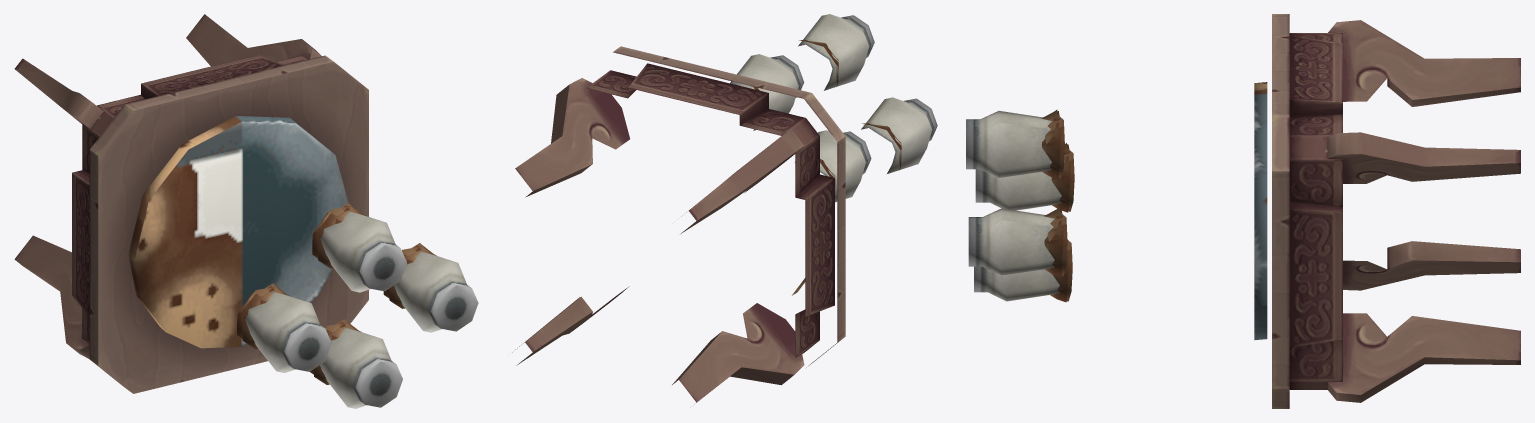
3 renders of one model, left to right at view 1: azimuth 30°, elevation 25°; view 2: azimuth 150°, elevation 25°; view 3: azimuth 270°, elevation 25°, orthographic. The views are drawn at different scales.
Visible parts, largest first — view 1: winterfest_table.model-MeshNodes["winterfest_table"], parts.model-MeshNodes["milk_cookies_tray_bake"], winterfest.milk_cookies_set-MeshSets[milk_cookies_milk].Mesh (×4), winterfest.milk_cookies_set-MeshSets[model_cookie02].Mesh[0] (×2); view 2: winterfest_table.model-MeshNodes["winterfest_table"], winterfest.milk_cookies_set-MeshSets[milk_cookies_milk].Mesh (×4); view 3: winterfest_table.model-MeshNodes["winterfest_table"], winterfest.milk_cookies_set-MeshSets[milk_cookies_milk].Mesh (×4), parts.model-MeshNodes["milk_cookies_tray_bake"], winterfest.milk_cookies_set-MeshSets[model_cookie02].Mesh[0] (×2).
Boxes of the visible parts, left/top/right/bottom form: winterfest_table.model-MeshNodes["winterfest_table"]: left=14, top=14, right=368, bottom=393; parts.model-MeshNodes["milk_cookies_tray_bake"]: left=128, top=116, right=348, bottom=348; winterfest.milk_cookies_set-MeshSets[milk_cookies_milk].Mesh (×4): left=245, top=211, right=478, bottom=408; winterfest.milk_cookies_set-MeshSets[model_cookie02].Mesh[0] (×2): left=241, top=203, right=358, bottom=349; winterfest_table.model-MeshNodes["winterfest_table"]: left=512, top=46, right=845, bottom=402; winterfest.milk_cookies_set-MeshSets[milk_cookies_milk].Mesh (×4): left=730, top=14, right=937, bottom=202; winterfest_table.model-MeshNodes["winterfest_table"]: left=1272, top=14, right=1520, bottom=408; winterfest.milk_cookies_set-MeshSets[milk_cookies_milk].Mesh (×4): left=966, top=111, right=1061, bottom=301; parts.model-MeshNodes["milk_cookies_tray_bake"]: left=1254, top=82, right=1267, bottom=340; winterfest.milk_cookies_set-MeshSets[model_cookie02].Mesh[0] (×2): left=1041, top=112, right=1067, bottom=276.
Size of the model in its own units: 1.09 by 1.09 by 1.87.
Materials: 2 (2 with a texture image).
